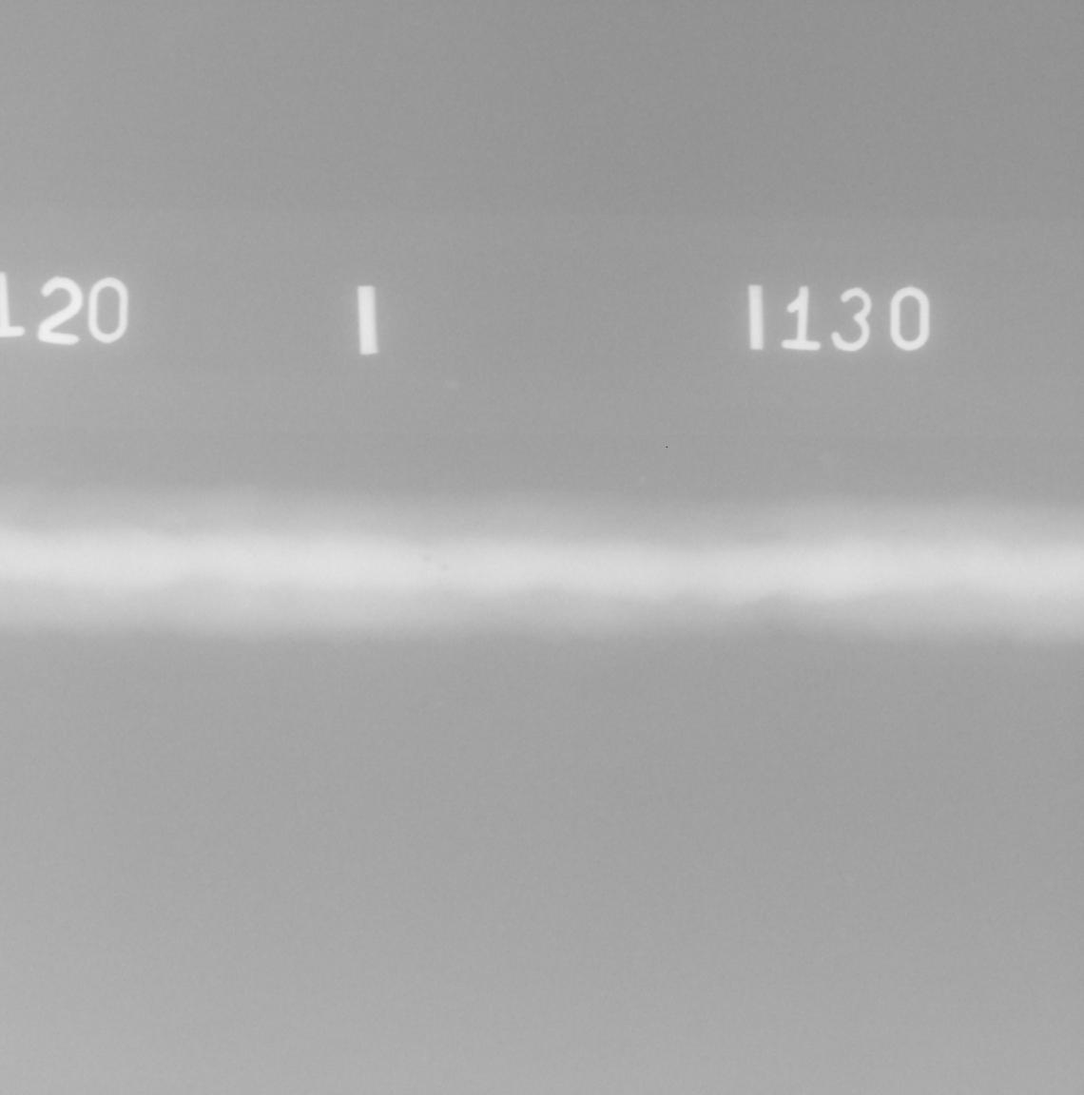Pore/Porosity: (424, 555, 431, 563), (441, 566, 446, 571), (501, 543, 506, 547)
